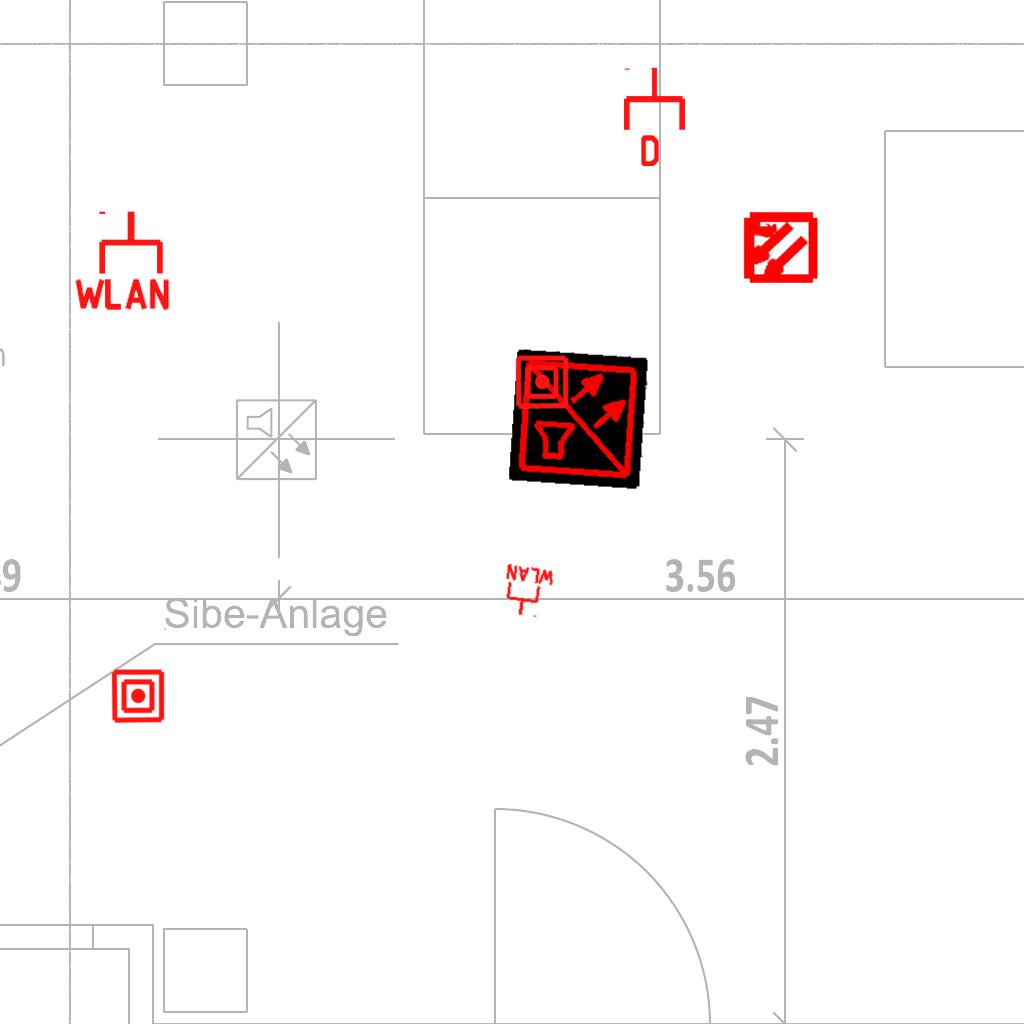Datenanschluss_einfach: (620, 66, 689, 166)
NAM-Nichtautomatischer_Melder: (110, 668, 166, 724), (514, 354, 570, 410)
OKW_Multisensormelder_(Kombination_optischer_Rauch-Kahlenmonoxid_Waerme-Melder): (508, 348, 650, 490)
OT_Multisensormelder_(Kombination_RMO_WMD): (722, 191, 835, 304)
WLAN: (70, 207, 174, 312), (498, 562, 558, 622)
